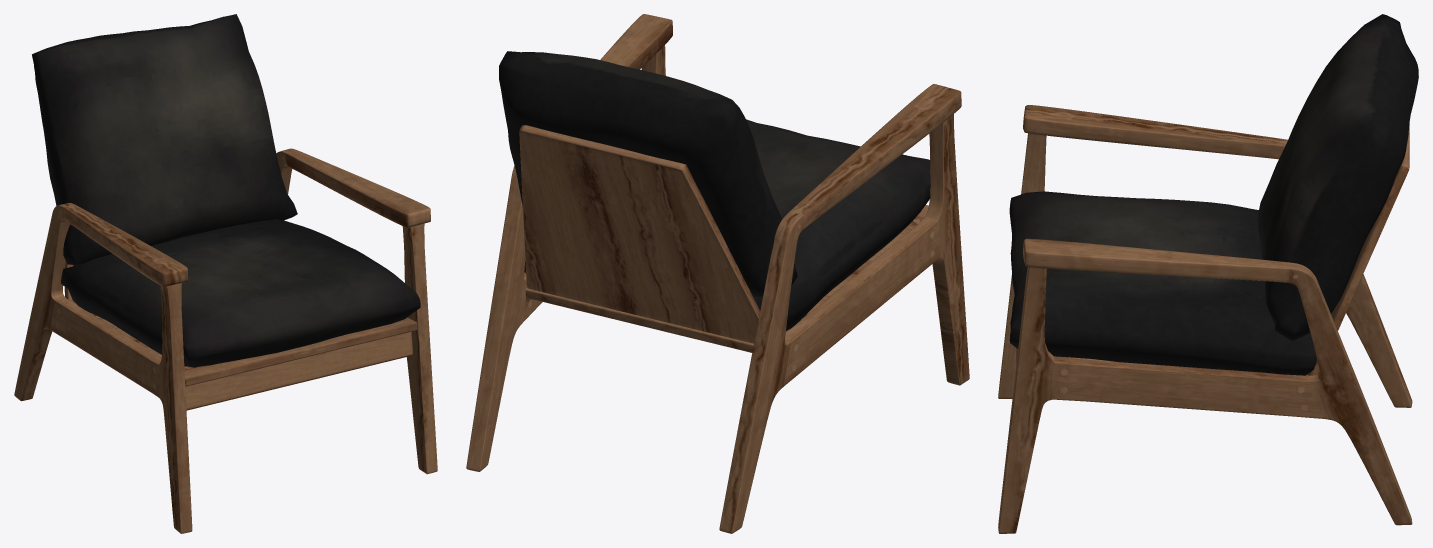
Rendered from modern-berjer.glb.
The picture shows the model from 3 angles, left to right: view 1: azimuth 30°, elevation 25°; view 2: azimuth 150°, elevation 25°; view 3: azimuth 270°, elevation 25°; orthographic projection. The views are drawn at different scales.
Parts seen in each view (by area): view 1: modern_arm_chair_01; view 2: modern_arm_chair_01; view 3: modern_arm_chair_01.
Boxes of the visible parts, left/top/right/bottom form: modern_arm_chair_01: left=14, top=14, right=437, bottom=533; modern_arm_chair_01: left=466, top=14, right=969, bottom=533; modern_arm_chair_01: left=998, top=14, right=1418, bottom=533.
Bounding box in the file's own units: 0.8203 × 1.02 × 0.9866.
Materials: 2 (2 with a texture image).
